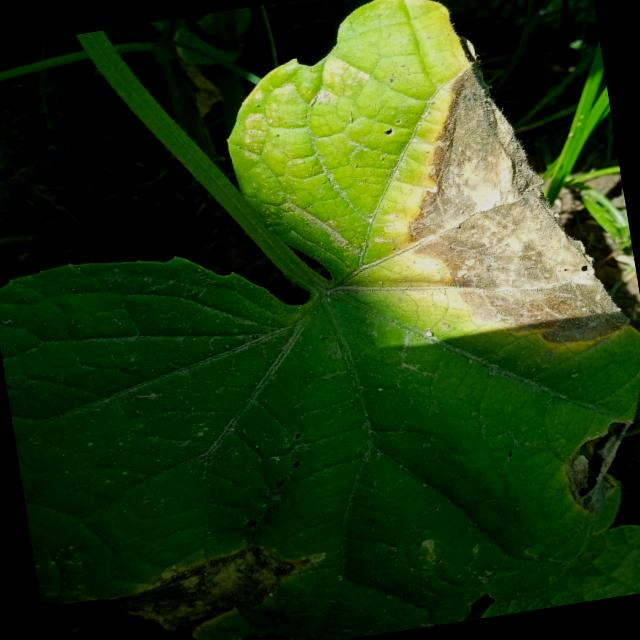cucumber_gummy: (196, 0, 640, 453), (0, 187, 405, 640), (328, 224, 640, 633)
